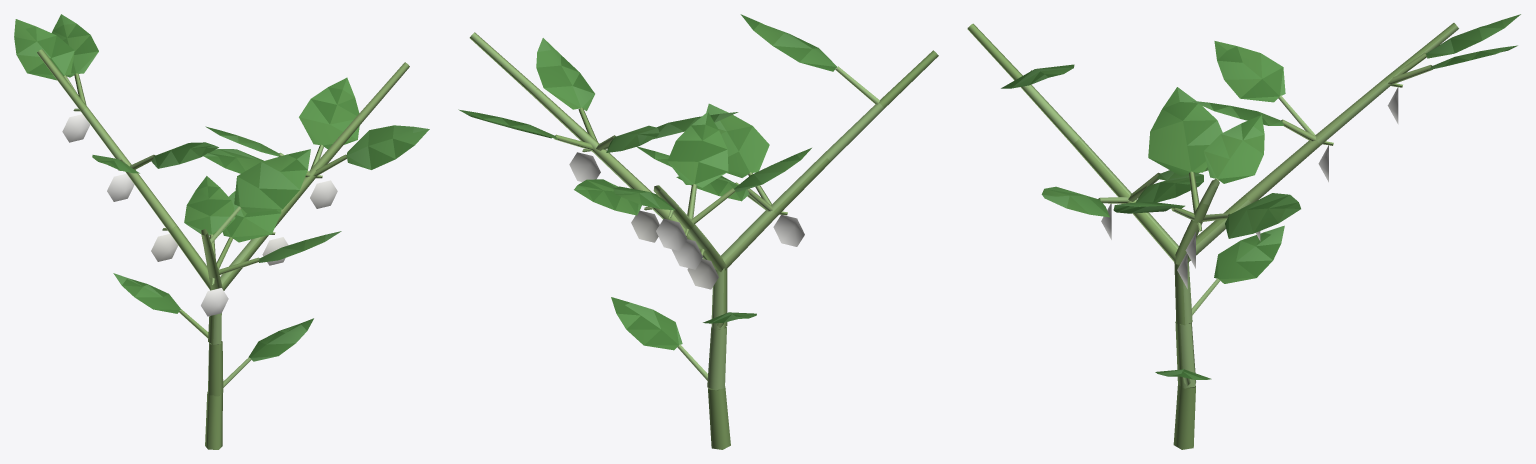
File: poivron_floraison.glb
3 views of the same model, side by side, from view 1: azimuth 30°, elevation 25°; view 2: azimuth 150°, elevation 25°; view 3: azimuth 270°, elevation 25° (orthographic). The views are drawn at different scales.
Visible parts, largest first — view 1: Poivron_Feuilles, Poivron_Tiges, Poivron_Fleurs; view 2: Poivron_Feuilles, Poivron_Tiges, Poivron_Fleurs; view 3: Poivron_Feuilles, Poivron_Tiges, Poivron_Fleurs.
Boxes of the visible parts, left/top/right/bottom form: Poivron_Feuilles: left=14, top=14, right=429, bottom=361; Poivron_Tiges: left=37, top=49, right=409, bottom=449; Poivron_Fleurs: left=62, top=114, right=337, bottom=316; Poivron_Feuilles: left=458, top=14, right=836, bottom=350; Poivron_Tiges: left=469, top=32, right=938, bottom=449; Poivron_Fleurs: left=569, top=152, right=804, bottom=289; Poivron_Feuilles: left=1001, top=14, right=1520, bottom=379; Poivron_Tiges: left=967, top=23, right=1458, bottom=449; Poivron_Fleurs: left=1101, top=87, right=1398, bottom=288.
Bounding box in the file's own units: 0.3905 × 0.4054 × 0.5093.
